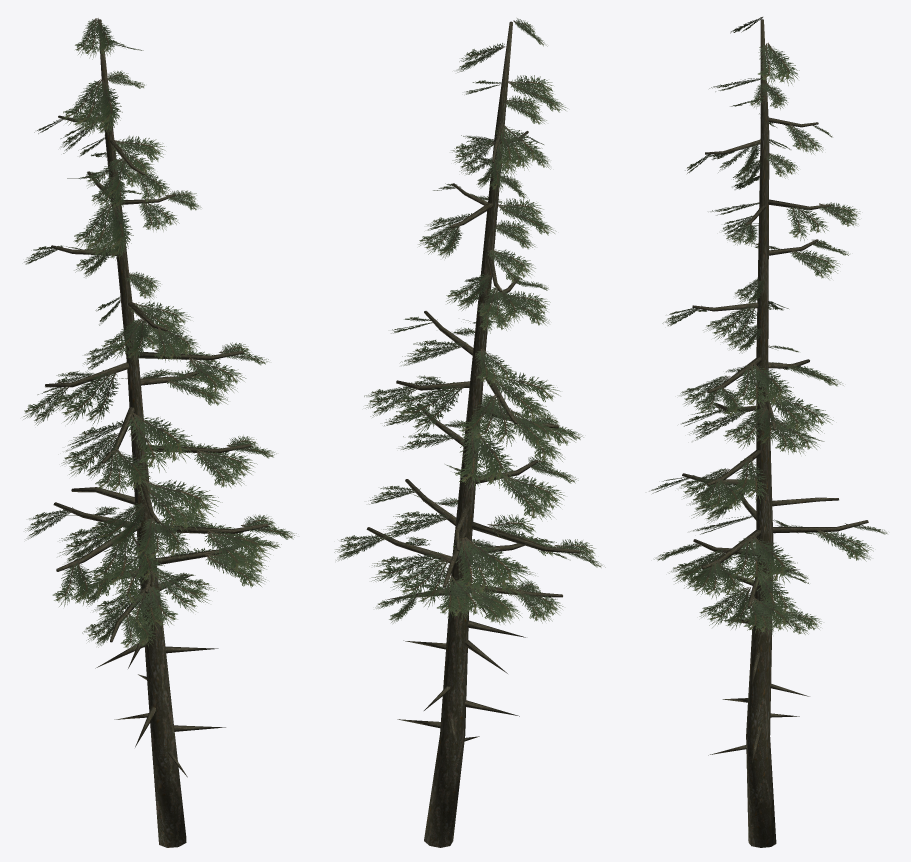
File: Pine_tall_atlas.fbx
3 renders of one model, left to right at view 1: azimuth 30°, elevation 25°; view 2: azimuth 150°, elevation 25°; view 3: azimuth 270°, elevation 25°, orthographic. The views are drawn at different scales.
Visible parts, largest first — view 1: Plane.085; view 2: Plane.085; view 3: Plane.085.
Part boxes in pixels (left/top/right/bottom): Plane.085: left=23, top=18, right=296, bottom=847; Plane.085: left=334, top=18, right=605, bottom=847; Plane.085: left=649, top=17, right=887, bottom=847.
Size of the model in its own units: 376 by 1161 by 339.
Materials: 1 (1 with a texture image).
